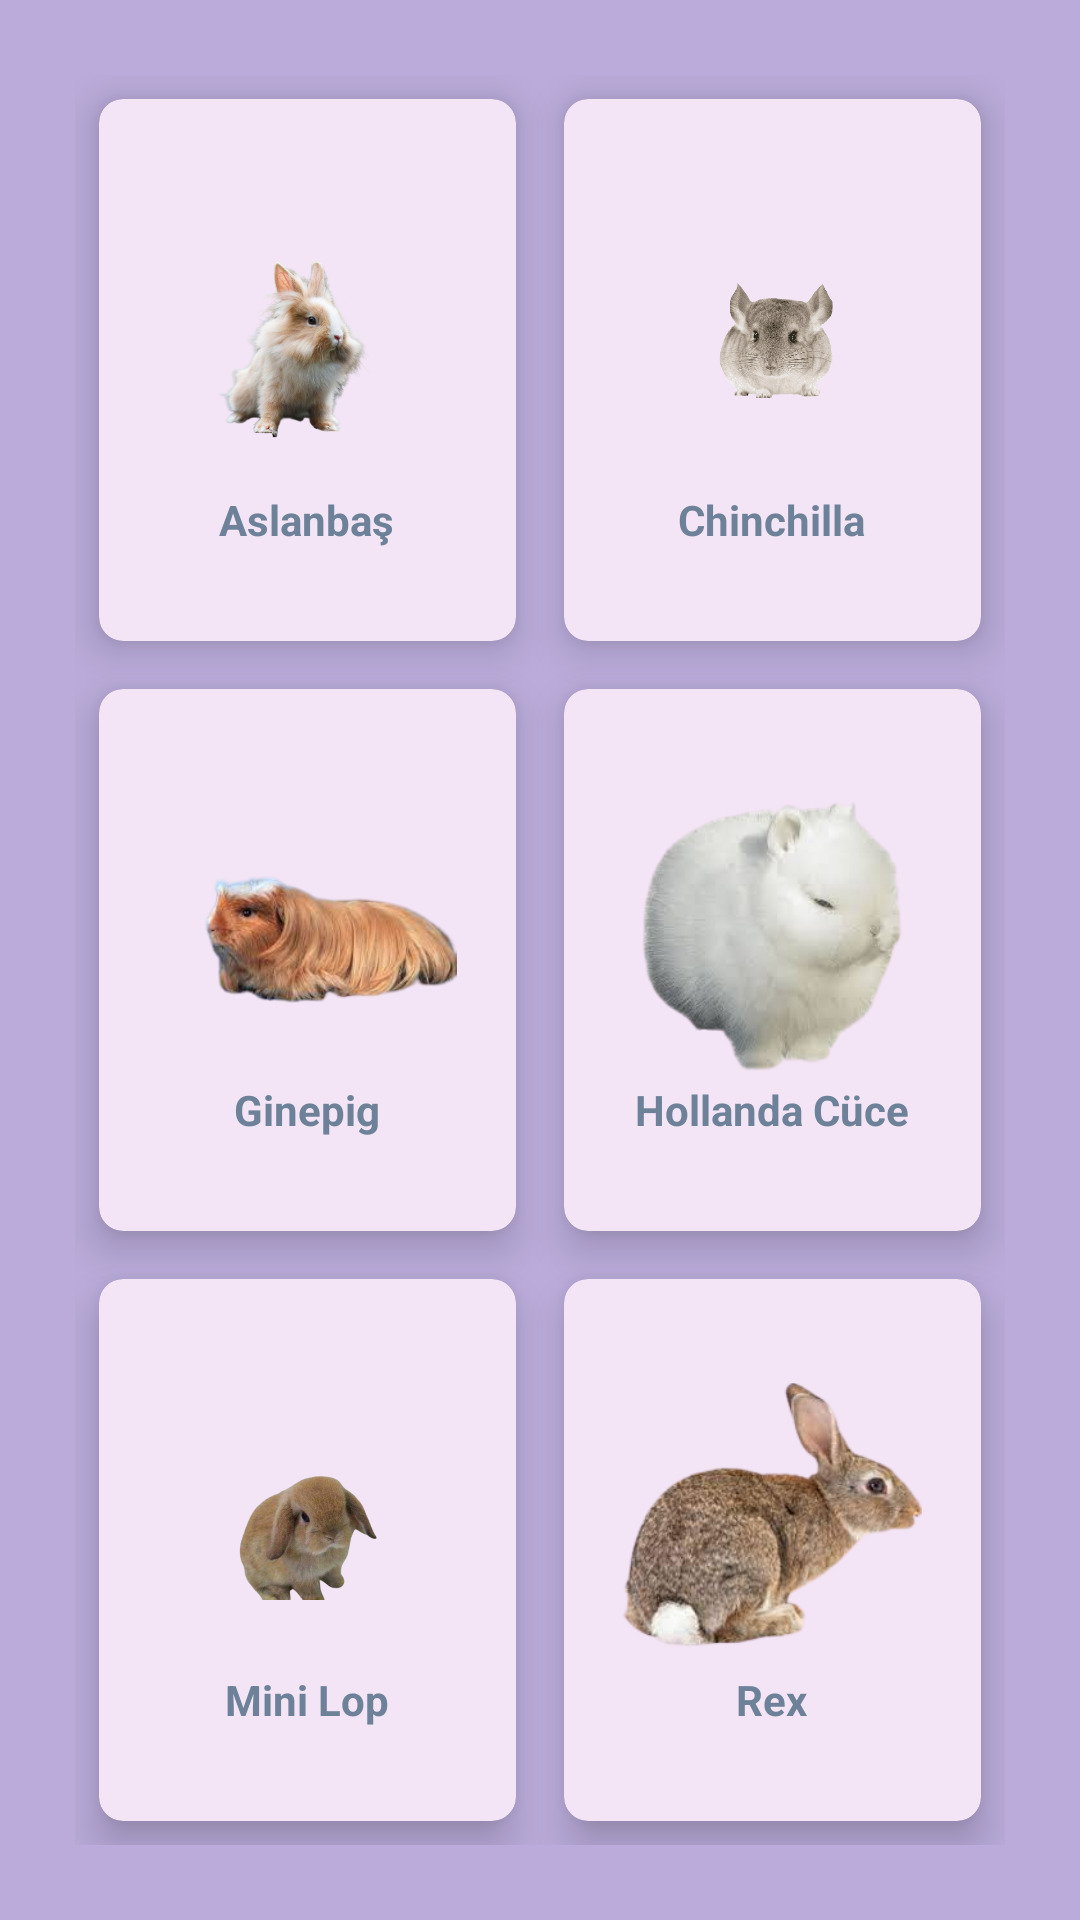

Named icons in this screenshot (1080px x 1920px) and their bounding boxes, [x1, y1, x2, y2]:
aslanbas: [222, 262, 365, 438]
